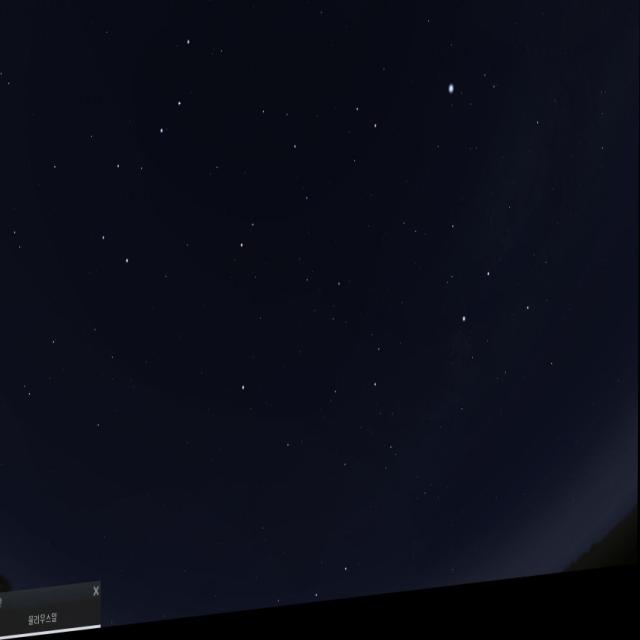cygnus: (443, 125, 553, 348)
lyra: (446, 61, 506, 140)
ursa_major: (98, 31, 214, 271)
